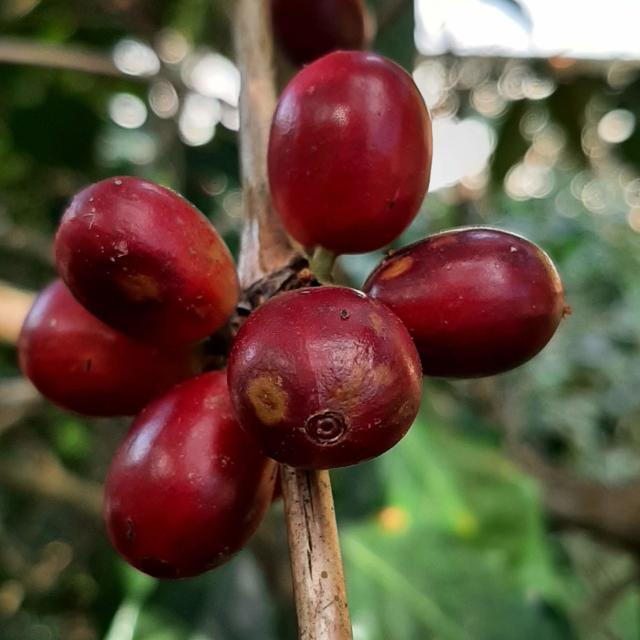red: (227, 286, 423, 471), (104, 371, 276, 580), (267, 50, 433, 254), (53, 176, 239, 346), (363, 227, 569, 378), (17, 280, 201, 417)
